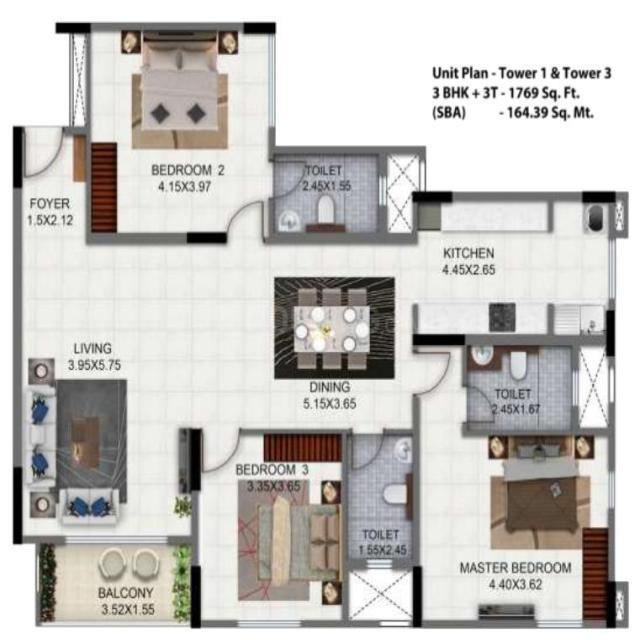Balcony-Sitout: (36, 543, 194, 627)
Bedroom: (193, 429, 345, 624)
Bedroom with Toilet: (90, 28, 385, 240), (342, 429, 615, 621)
Dining: (270, 273, 397, 385)
Enterance-Foyer: (16, 127, 89, 240)
Kitchen: (417, 202, 613, 341)
Living: (12, 360, 194, 545)
Toilet: (414, 348, 575, 433), (347, 433, 414, 562), (275, 156, 383, 233)
